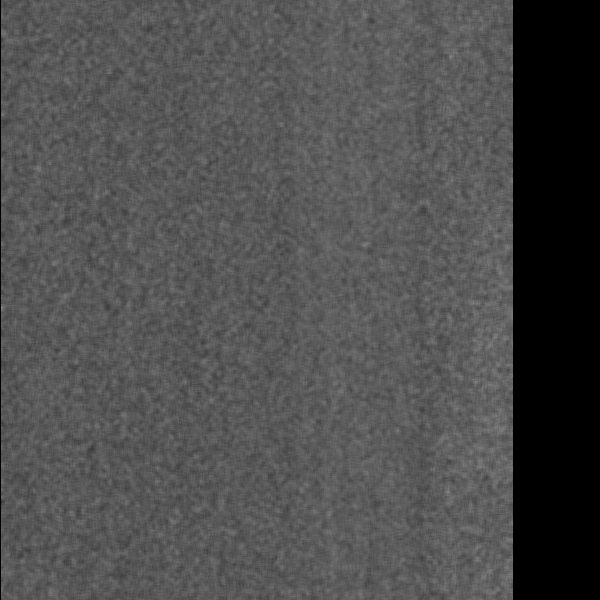spark: (50, 384, 99, 446), (442, 149, 485, 208), (180, 11, 218, 77), (91, 277, 124, 329), (23, 90, 58, 136), (119, 383, 151, 428), (70, 318, 98, 359), (475, 470, 503, 509), (384, 64, 409, 98), (377, 493, 399, 523)
